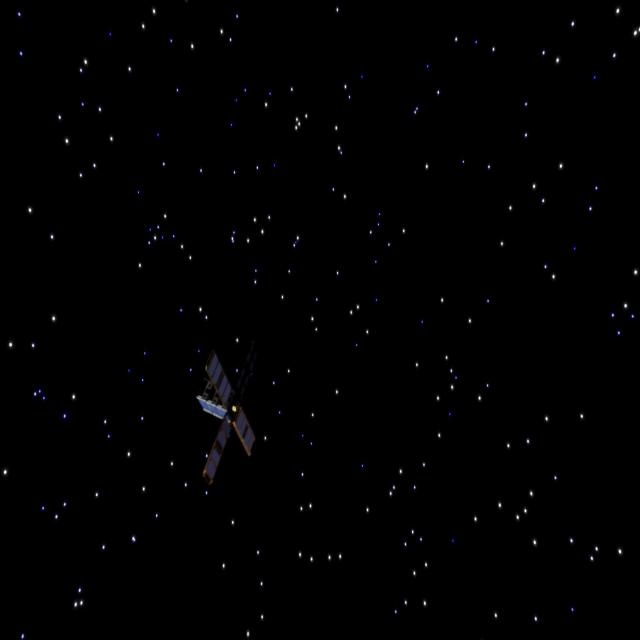satellite: (188, 328, 273, 488)
